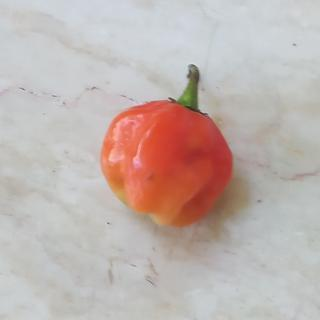Grade-B: (91, 90, 237, 229)
